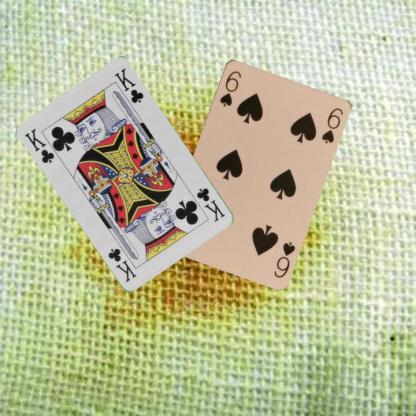6s: (216, 68, 242, 108), (271, 239, 296, 279)
Kc: (23, 125, 56, 165), (194, 185, 227, 223)
